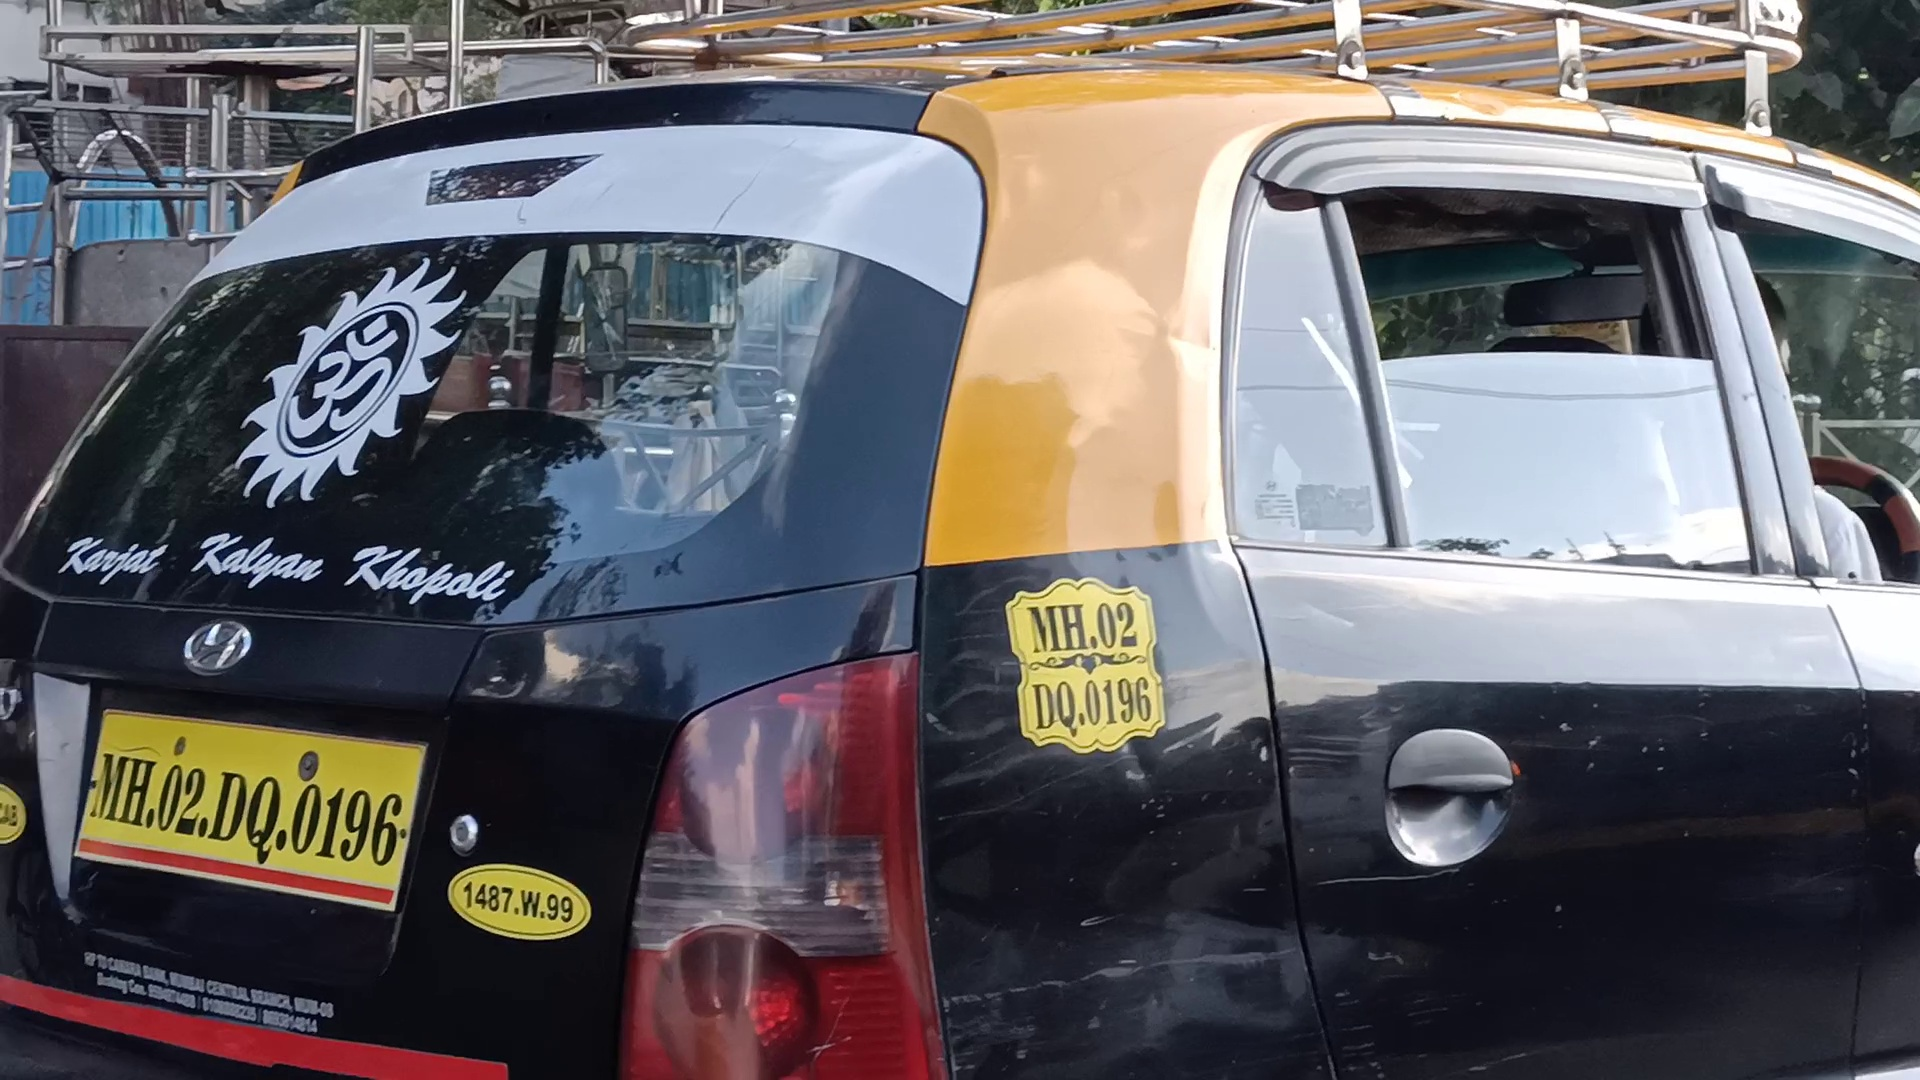MH02DQ0196: (68, 705, 428, 911)
